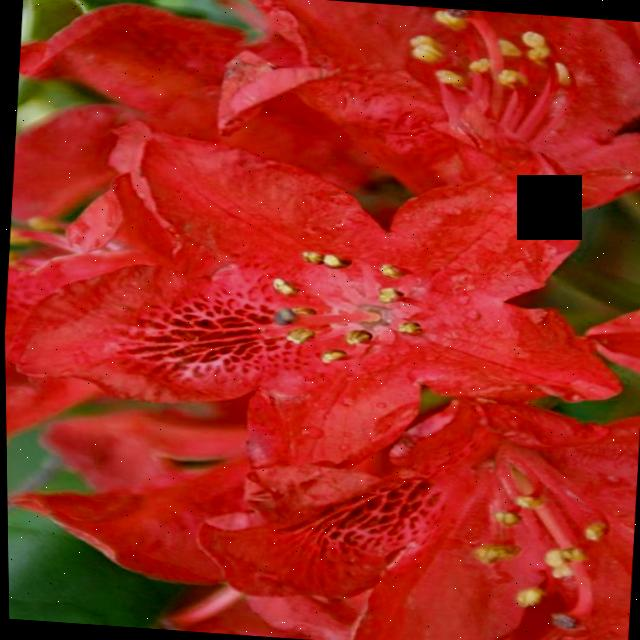azalea: (139, 120, 591, 458), (280, 374, 638, 640), (236, 0, 640, 222)
